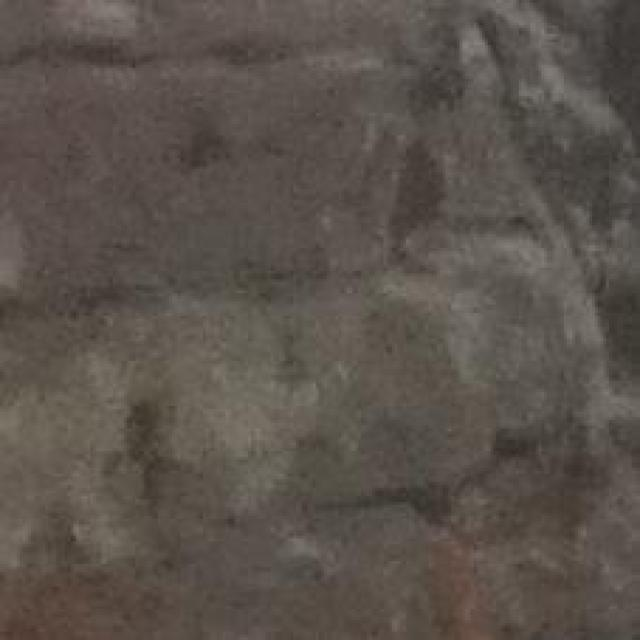Crack: (151, 0, 640, 601)
